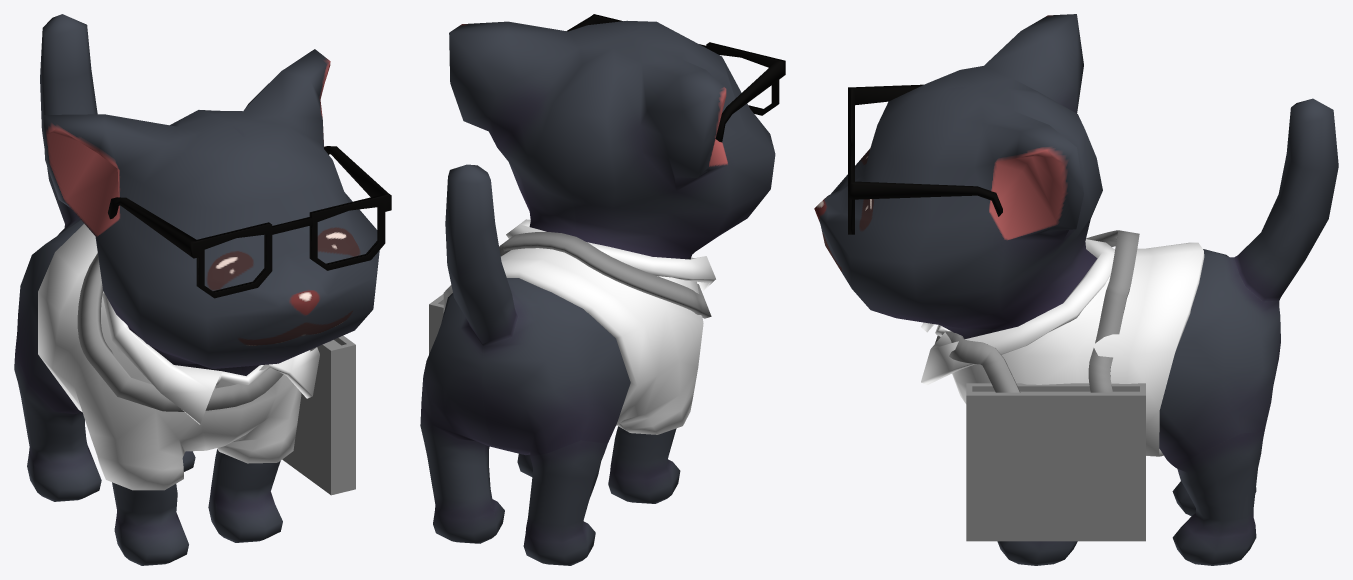
The model's file is Professor Cat03.fbx.
3 views of the same model, side by side, from view 1: azimuth 30°, elevation 25°; view 2: azimuth 150°, elevation 25°; view 3: azimuth 270°, elevation 25° (orthographic). The views are drawn at different scales.
Visible parts, largest first — view 1: Cat_Base002, Professor_Cat_Shirt, Professor_Cat_Bag, Professor_Cat_Glasses; view 2: Cat_Base002, Professor_Cat_Shirt, Professor_Cat_Bag, Professor_Cat_Glasses; view 3: Cat_Base002, Professor_Cat_Bag, Professor_Cat_Shirt, Professor_Cat_Glasses.
Boxes of the visible parts, box(x1,y1,x2,y2) form: Cat_Base002: box(14, 14, 379, 565); Professor_Cat_Shirt: box(38, 224, 319, 490); Professor_Cat_Bag: box(77, 253, 355, 495); Professor_Cat_Glasses: box(108, 146, 391, 298); Cat_Base002: box(420, 20, 775, 565); Professor_Cat_Shirt: box(443, 219, 715, 434); Professor_Cat_Bag: box(429, 232, 711, 353); Professor_Cat_Glasses: box(566, 14, 785, 142); Cat_Base002: box(814, 14, 1338, 565); Professor_Cat_Bag: box(935, 230, 1145, 541); Professor_Cat_Shirt: box(921, 239, 1204, 456); Professor_Cat_Glasses: box(848, 84, 1002, 234).
Bounding box in the file's own units: 1.75 × 2.83 × 2.68.
Materials: 4 (1 with a texture image).
